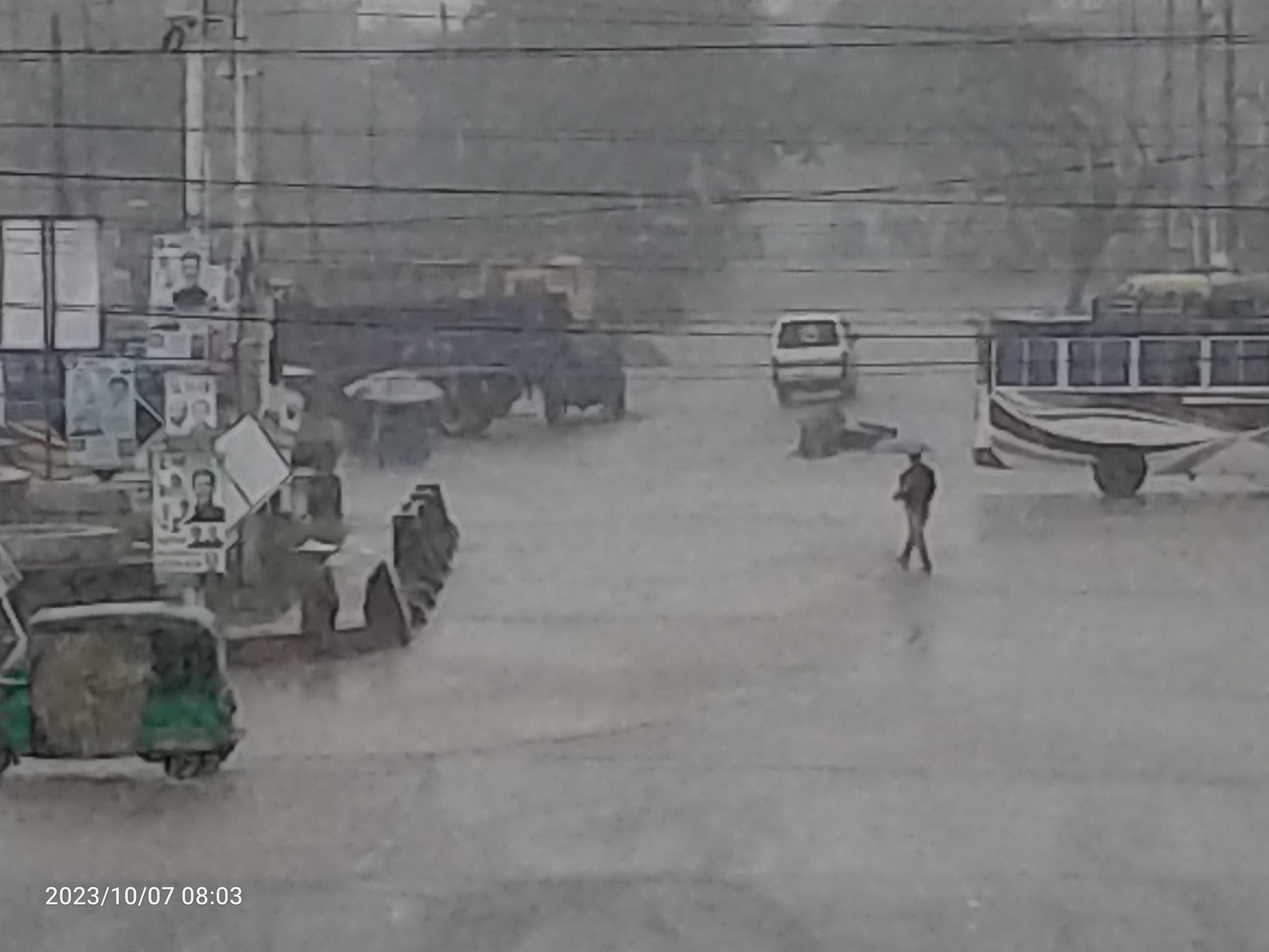Bus: (953, 261, 1269, 557)
Car: (739, 281, 890, 414)
Truck: (224, 213, 579, 441)
